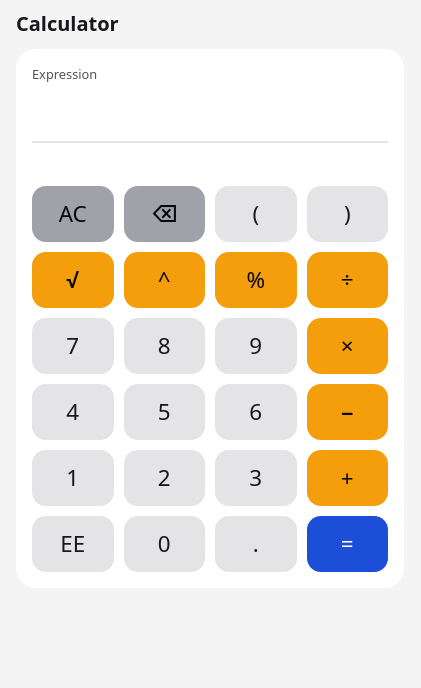
calculation with the keypad › add: 2+3
Expected: the button named "equals" is shown, [306,516,388,572]
Step 1. Click the button "2" → (164, 478), box [124,450,205,506]
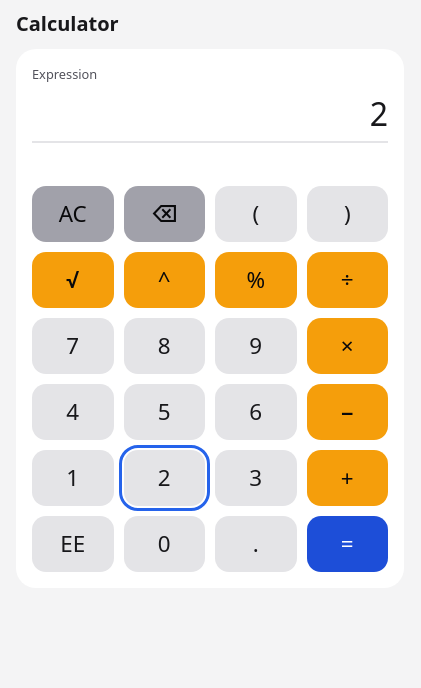
Step 2. Click the button named "plus" → (347, 478), box [306,450,388,506]
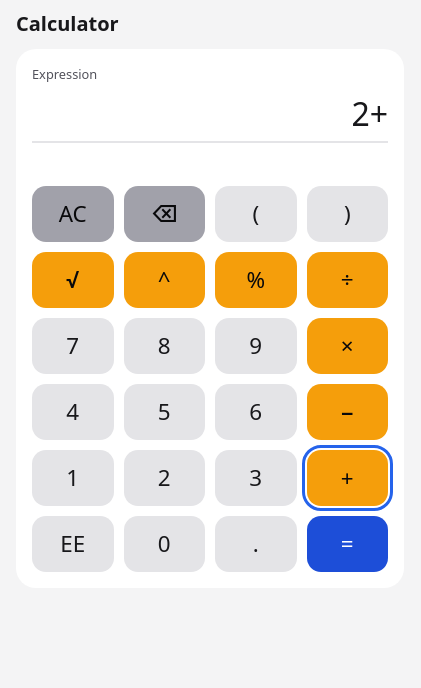
Step 3. Click the button "3" → (256, 478), box [215,450,296,506]
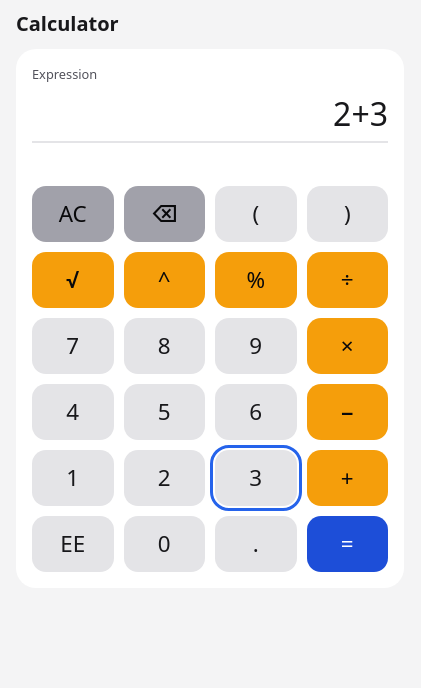
Expected: the field labelled "Expression" holds "2+3", [32,87,388,143]
Step 4. Click the button named "equals" → (347, 544), box [306,516,388,572]
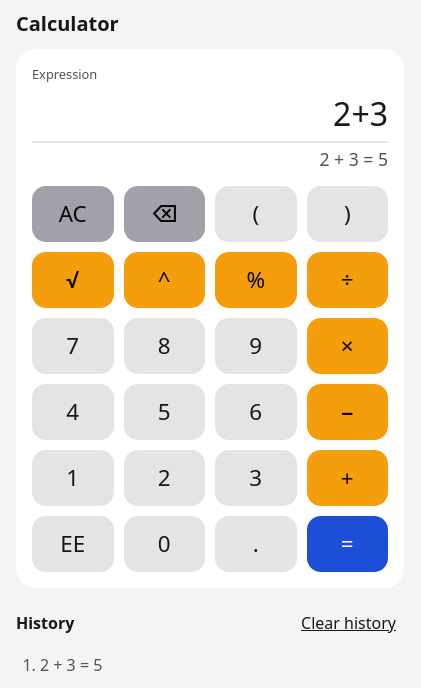
Expected: the message reads "2 + 3 = 5", [319,147,388,171]
